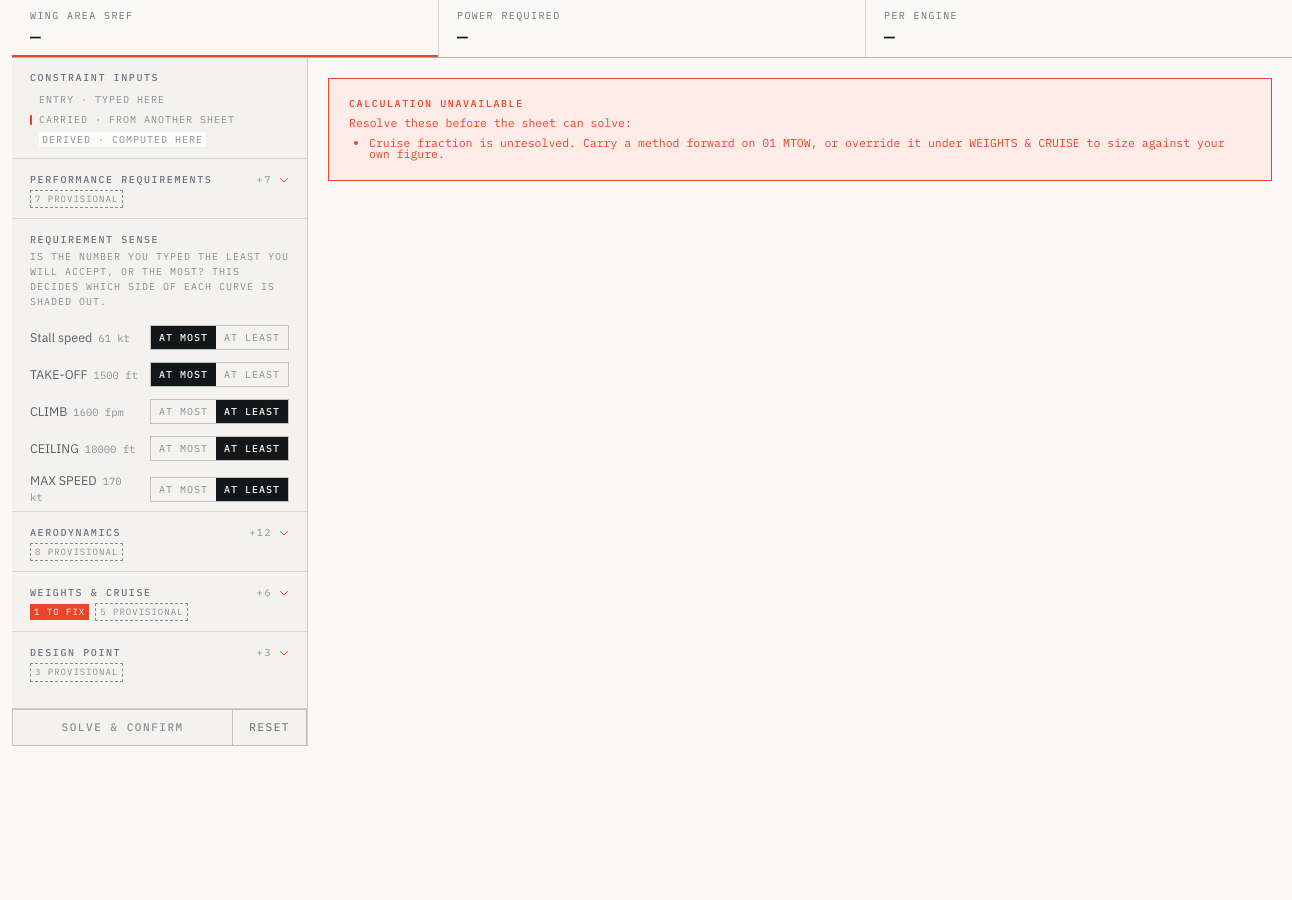
Scenario: names the band and the row a blocking entry sits in
Replace the text in the number field named "Aspect ratio" with "0": (160, 541) [12, 511, 307, 571]
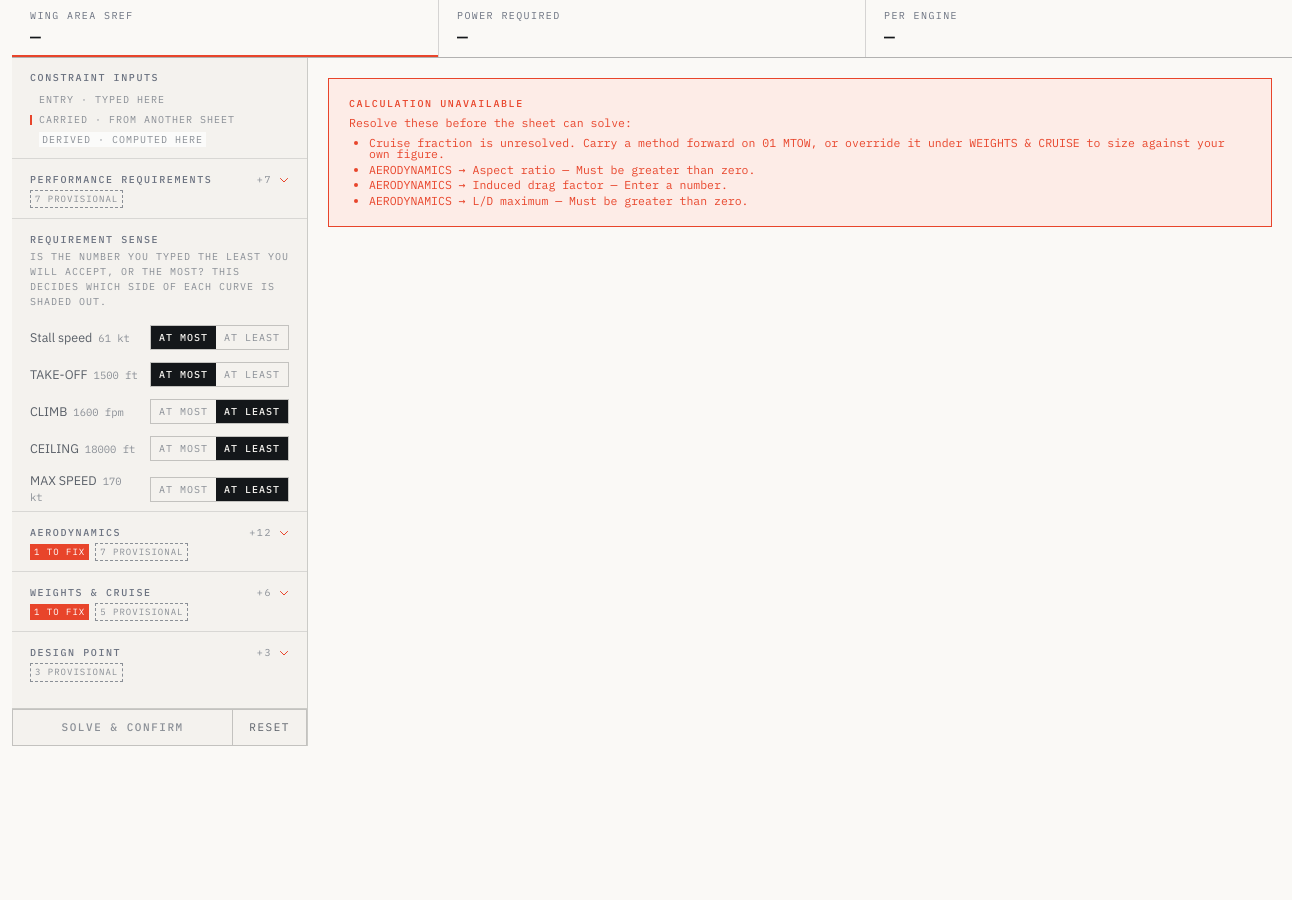
Check: the list item "AERODYNAMICS → Aspect ratio — Must be greater than zero." is shown, box [369, 162, 755, 176]
